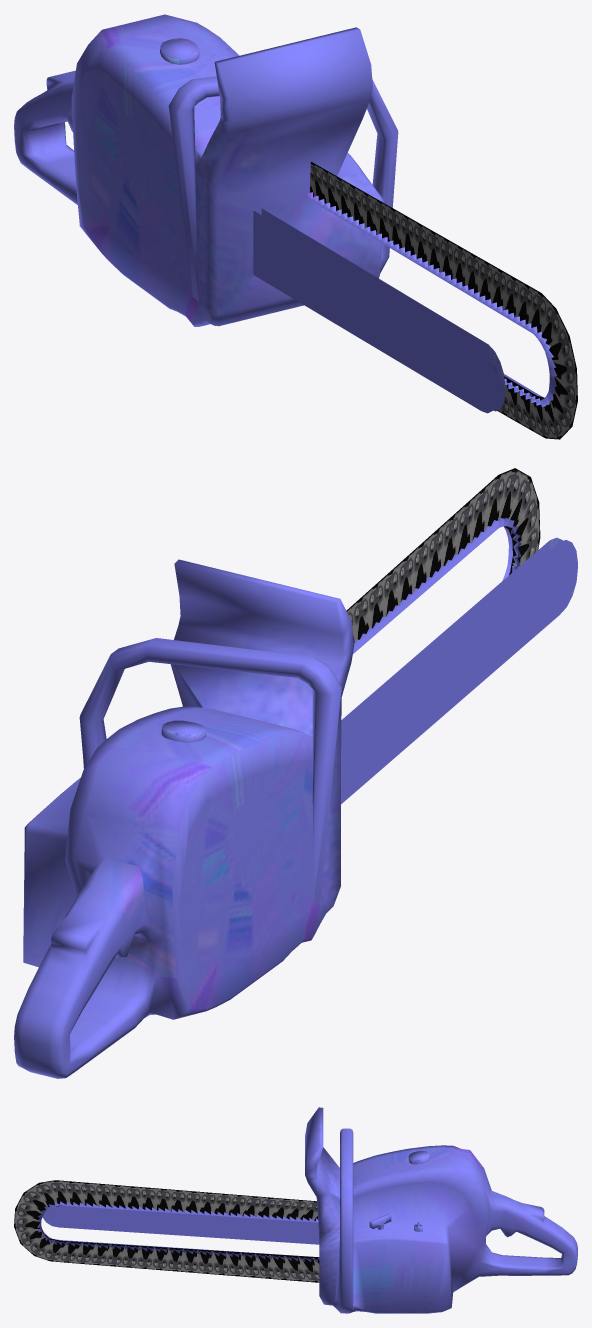
File: Chainsaw.glb
3 renders of one model, top to bottom at view 1: azimuth 30°, elevation 25°; view 2: azimuth 150°, elevation 25°; view 3: azimuth 270°, elevation 25°, orthographic. The views are drawn at different scales.
Parts seen in each view (by area): view 1: Chainsaw; view 2: Chainsaw; view 3: Chainsaw.
Boxes of the visible parts, x1,y1,x2,y2 form: Chainsaw: [14, 14, 577, 439]; Chainsaw: [14, 468, 577, 1078]; Chainsaw: [14, 1107, 577, 1313].
Bounding box in the file's own units: 2.37 × 2.88 × 9.13.
Materials: 3 (3 with a texture image).
